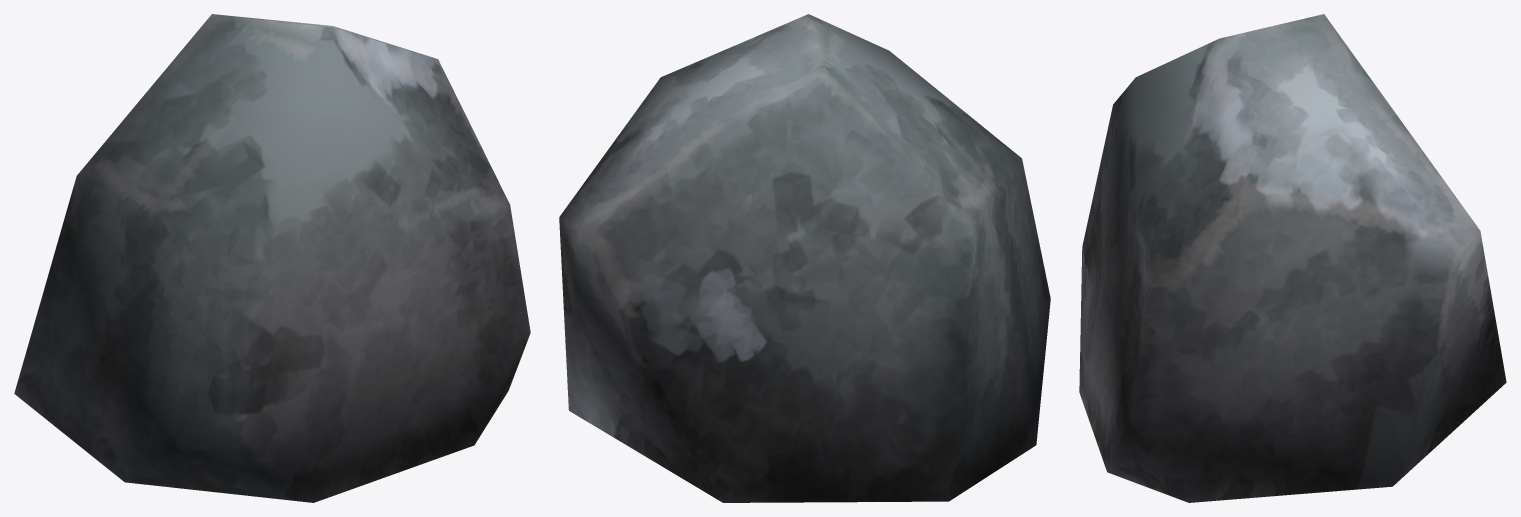
Rendered from Msh_Rock4_Env.fbx.
The picture shows the model from 3 angles, left to right: view 1: azimuth 30°, elevation 25°; view 2: azimuth 150°, elevation 25°; view 3: azimuth 270°, elevation 25°; orthographic projection.
Parts seen in each view (by area): view 1: Rock_4; view 2: Rock_4; view 3: Rock_4.
Part boxes in pixels (x1,y1,x2,y2): Rock_4: [14, 14, 530, 502]; Rock_4: [559, 14, 1050, 502]; Rock_4: [1079, 14, 1506, 502].
Size of the model in its own units: 34.84 by 34.2 by 33.32.
